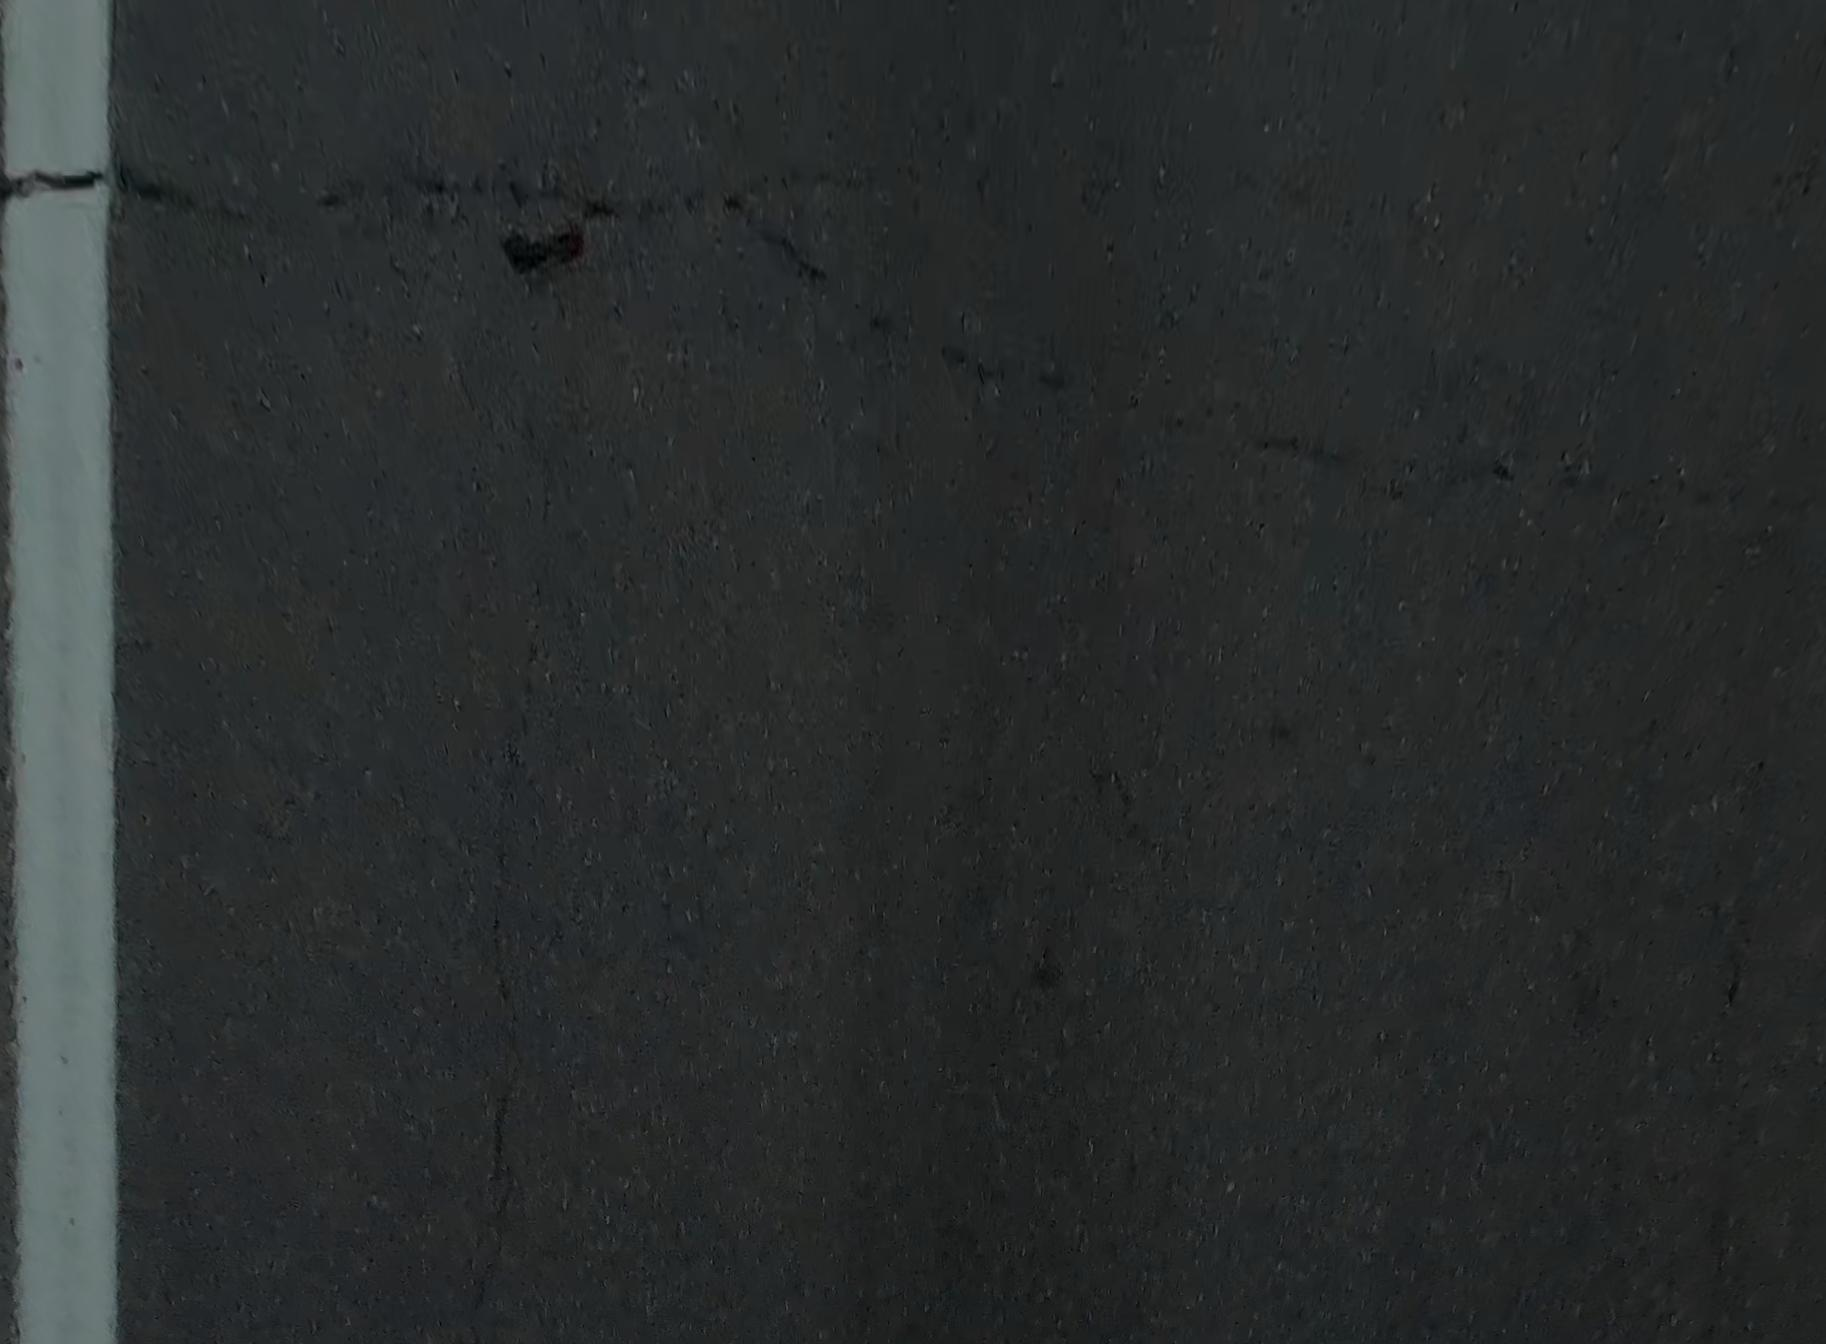pothole: (496, 221, 587, 275)
